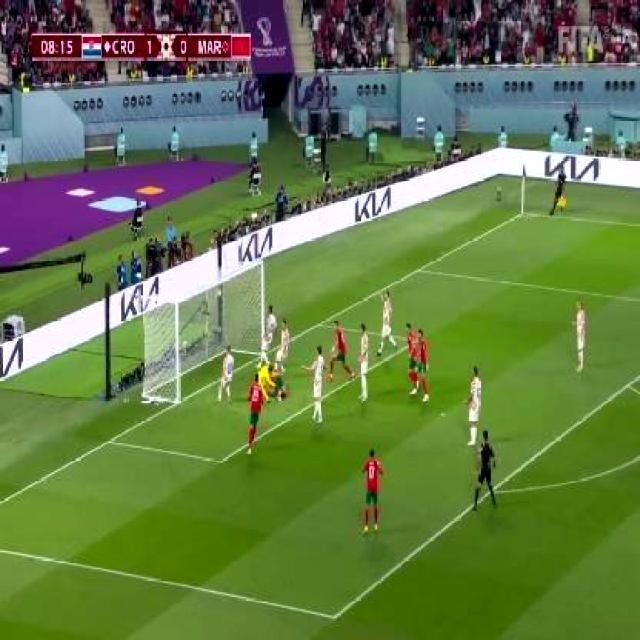bigarea_bottom_inner: (323, 602, 346, 632)
bigarea_top_outter: (412, 261, 426, 277)
corner: (517, 210, 531, 218)
smallarea_bottom_inner: (212, 446, 230, 474)
smallarea_bottom_outter: (100, 429, 117, 451)
smallarea_top_outter: (312, 316, 325, 332)
top_arc_area_intersection: (621, 377, 634, 391)
